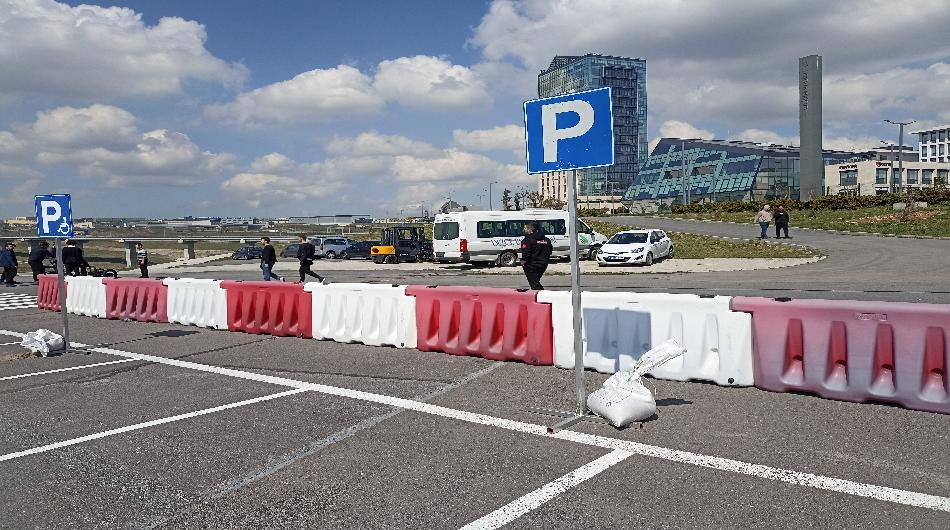engelli_park: (30, 192, 79, 241)
park: (518, 84, 620, 176)
